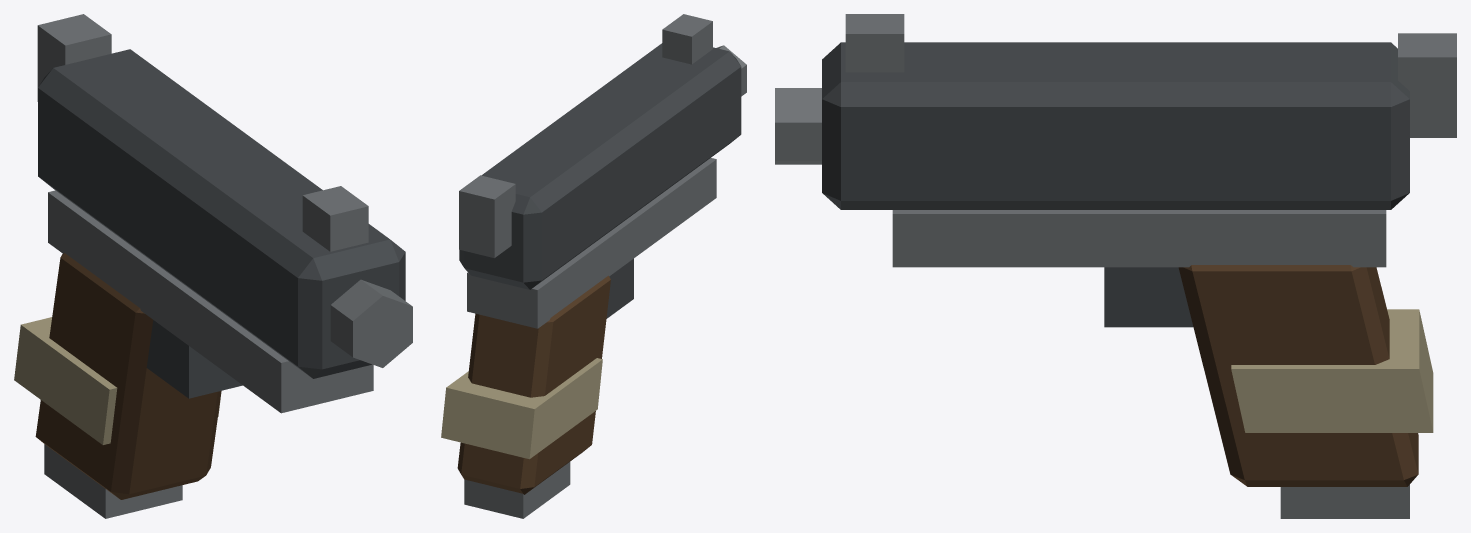
The model's file is item_pistol.glb.
3 renders of one model, left to right at view 1: azimuth 30°, elevation 25°; view 2: azimuth 150°, elevation 25°; view 3: azimuth 270°, elevation 25°, orthographic. The views are drawn at different scales.
Visible parts, largest first — view 1: pistol; view 2: pistol; view 3: pistol.
Part boxes in pixels (x1,y1,x2,y2): pistol: (14, 14, 412, 518); pistol: (441, 14, 746, 518); pistol: (775, 14, 1456, 518).
Bounding box in the file's own units: 0.06 × 0.223 × 0.29.
